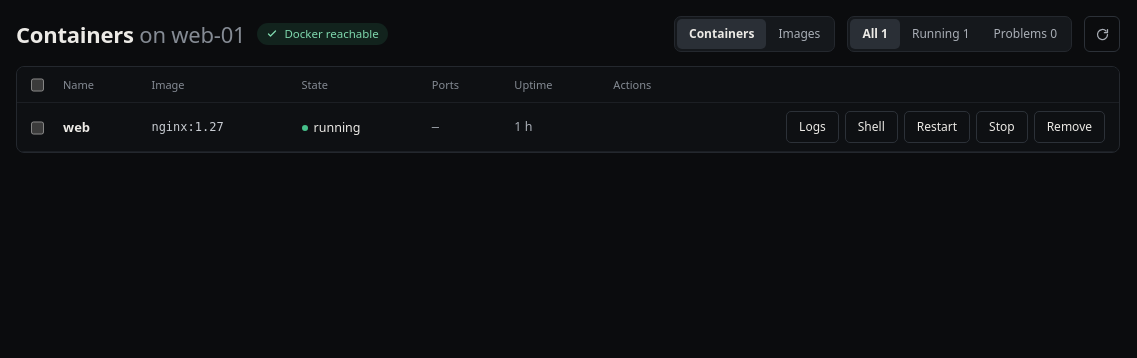
Test: Docker images multi-select › removes selected images without a dialog once it is turned off
Expected: the text "Docker reachable" is shown, [258,23,388,45]
Click the button "Images".
click(799, 34)  # box [766,19,832,49]
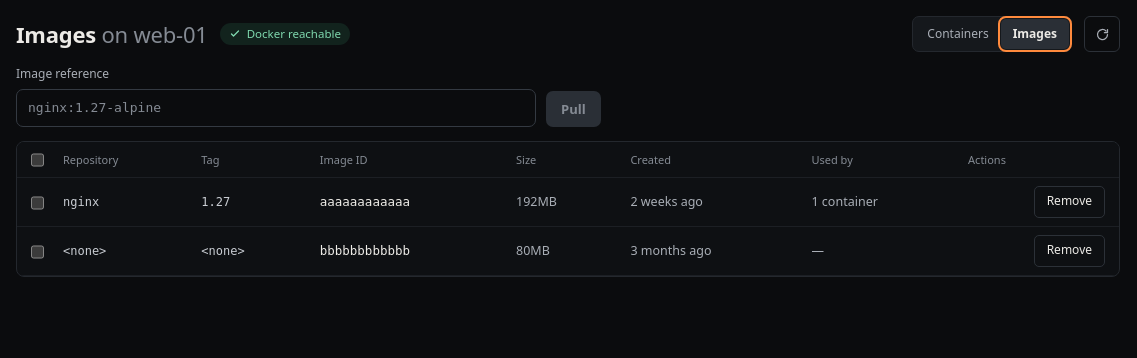
Expected: the text "192MB" is shown, [502,177,616,226]
Click the checkbox named "Select image sha256:bbbbbbbbbbbbbbbb".
click(38, 252)  # box [31,244,44,260]
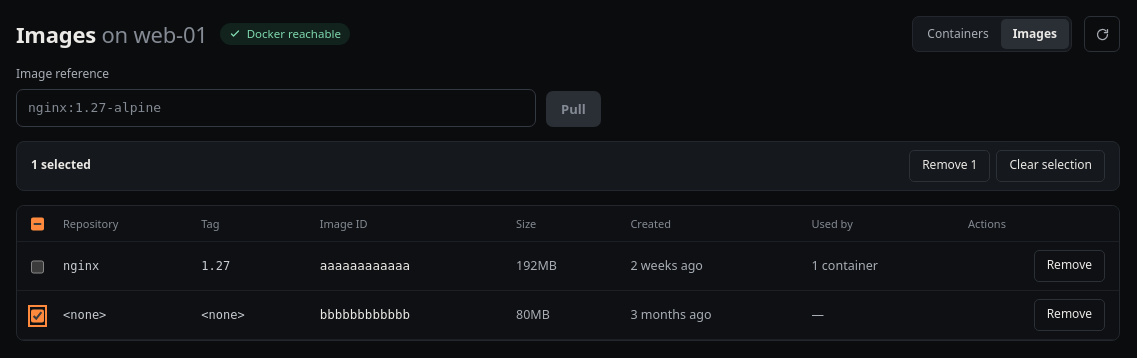
Click the button with aria-label "Remove 1 selected image".
click(950, 166)  # box [909,150,990,182]
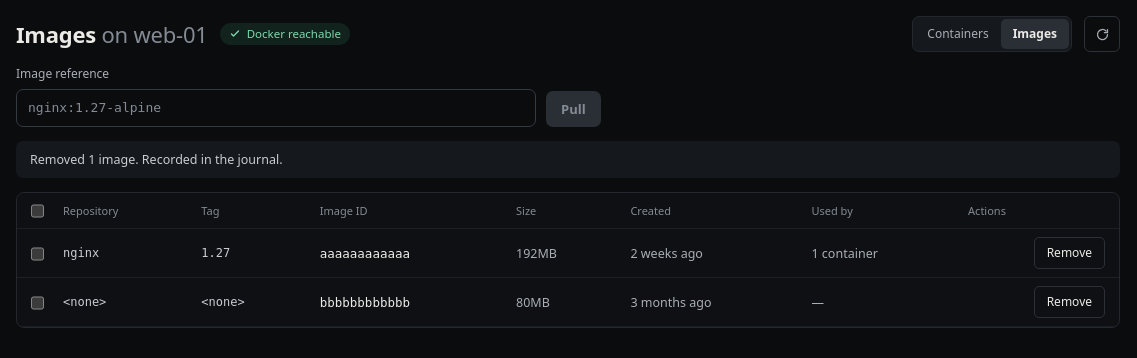
Expected: the text "Removed 1 image. Recorded in the journal." is shown, [16,141,1120,178]
